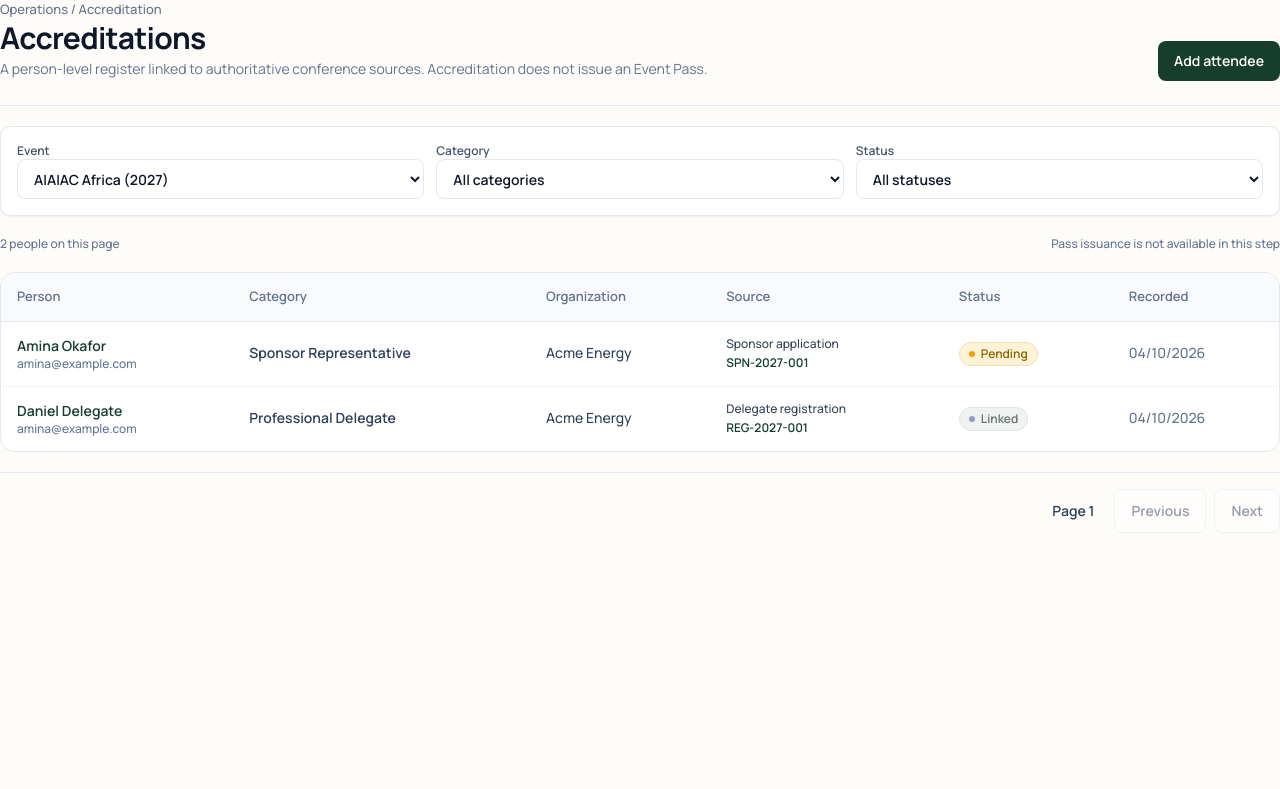
it: Accreditation UI › creates a pending representative using the organization's application reference
Click the button "Add attendee": coordinates (1219, 61) [1158,41,1279,81]
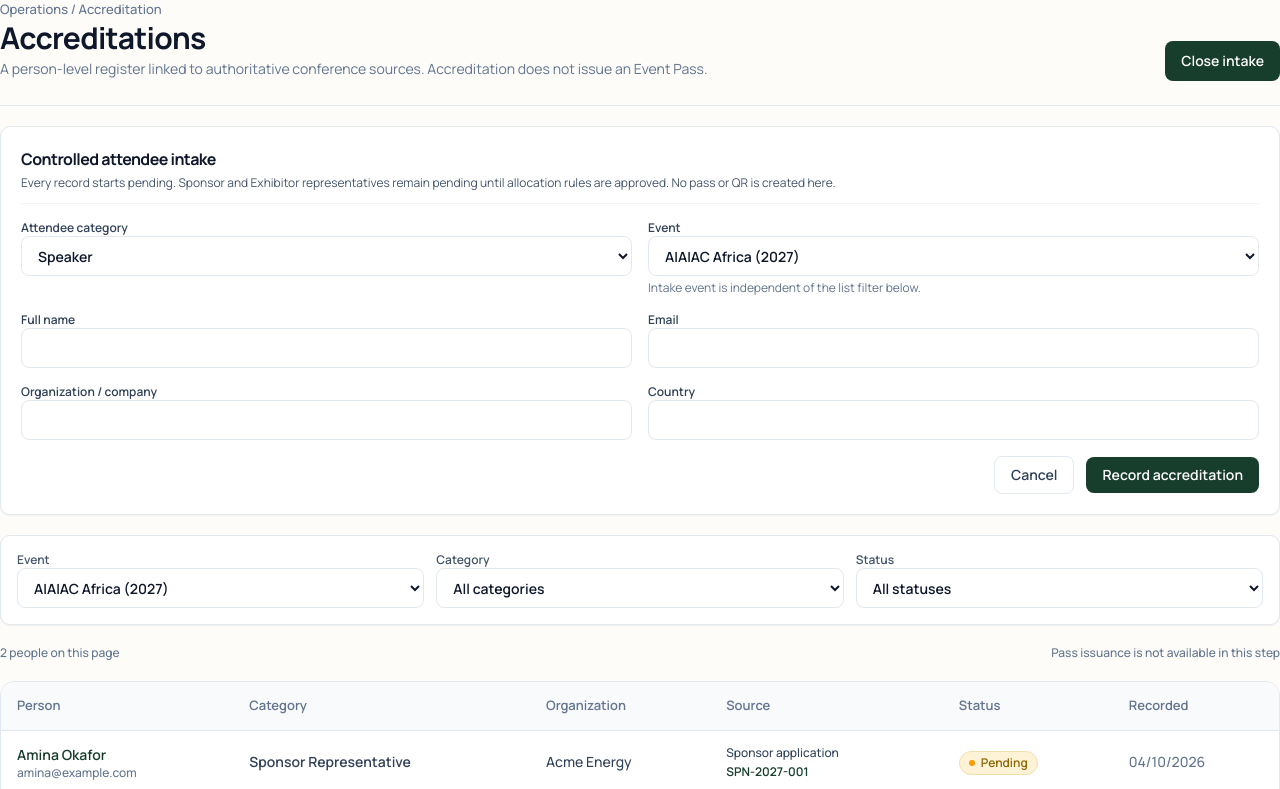
Select "Sponsor Representative" in the dropdown labelled "Attendee category": coordinates (326, 256) [21,236,632,276]
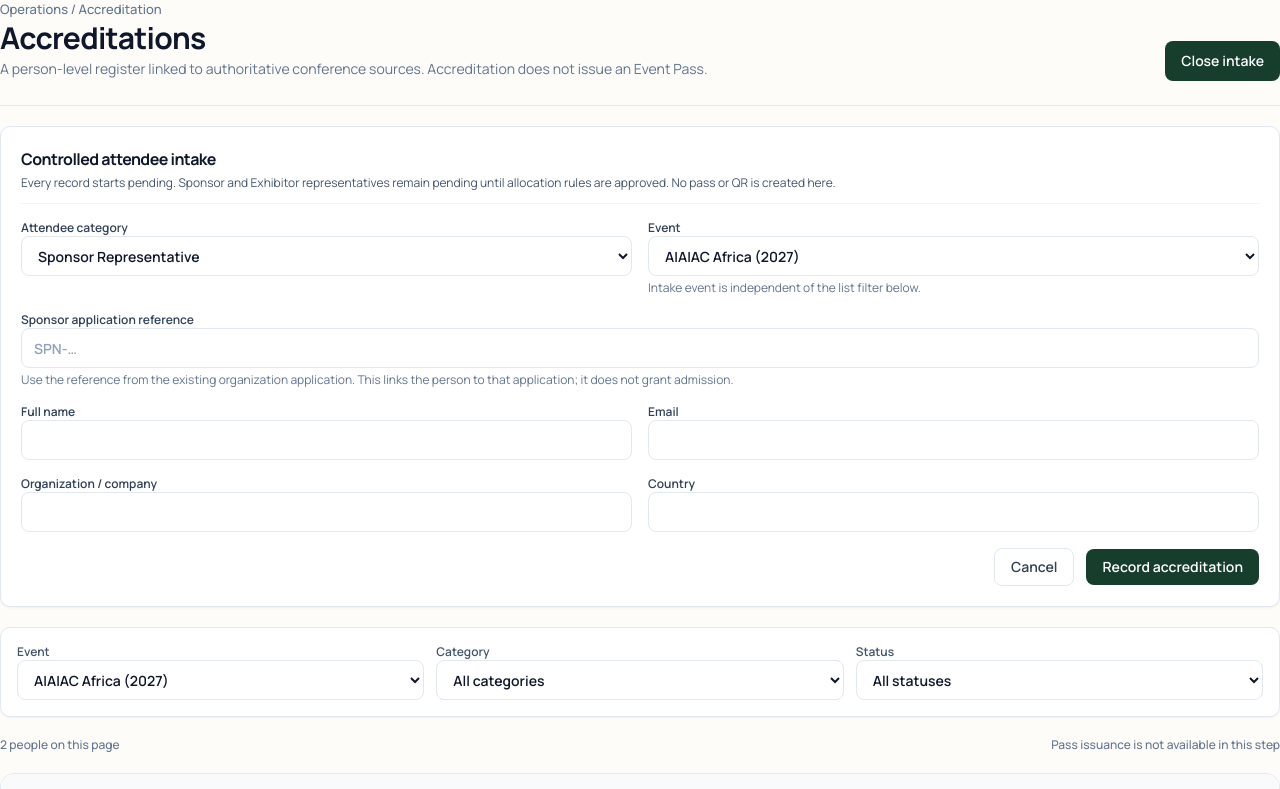
In the field labelled "Sponsor application reference": coordinates (640, 348) [21,328,1259,368], type "spn-2027-002"
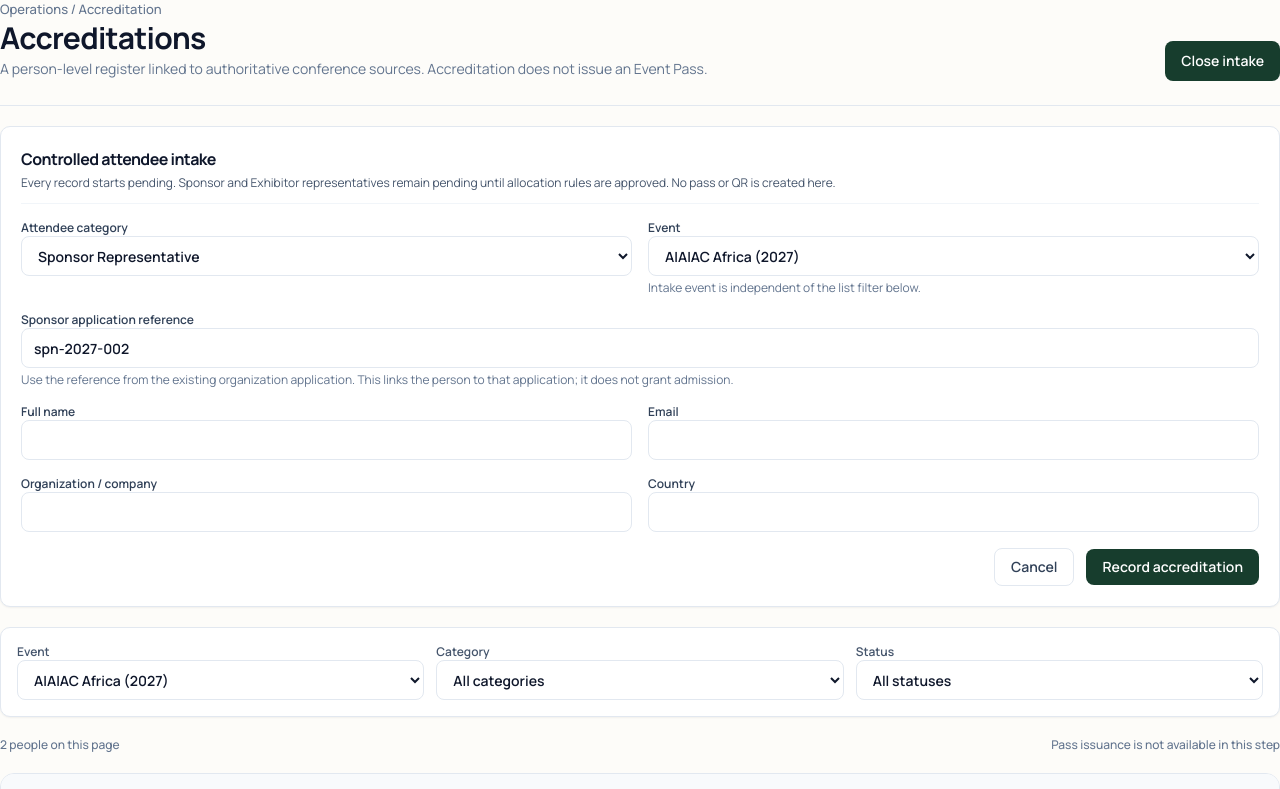
In the field labelled "Full name": coordinates (326, 440) [21,420,632,460], type "Kemi Representative"
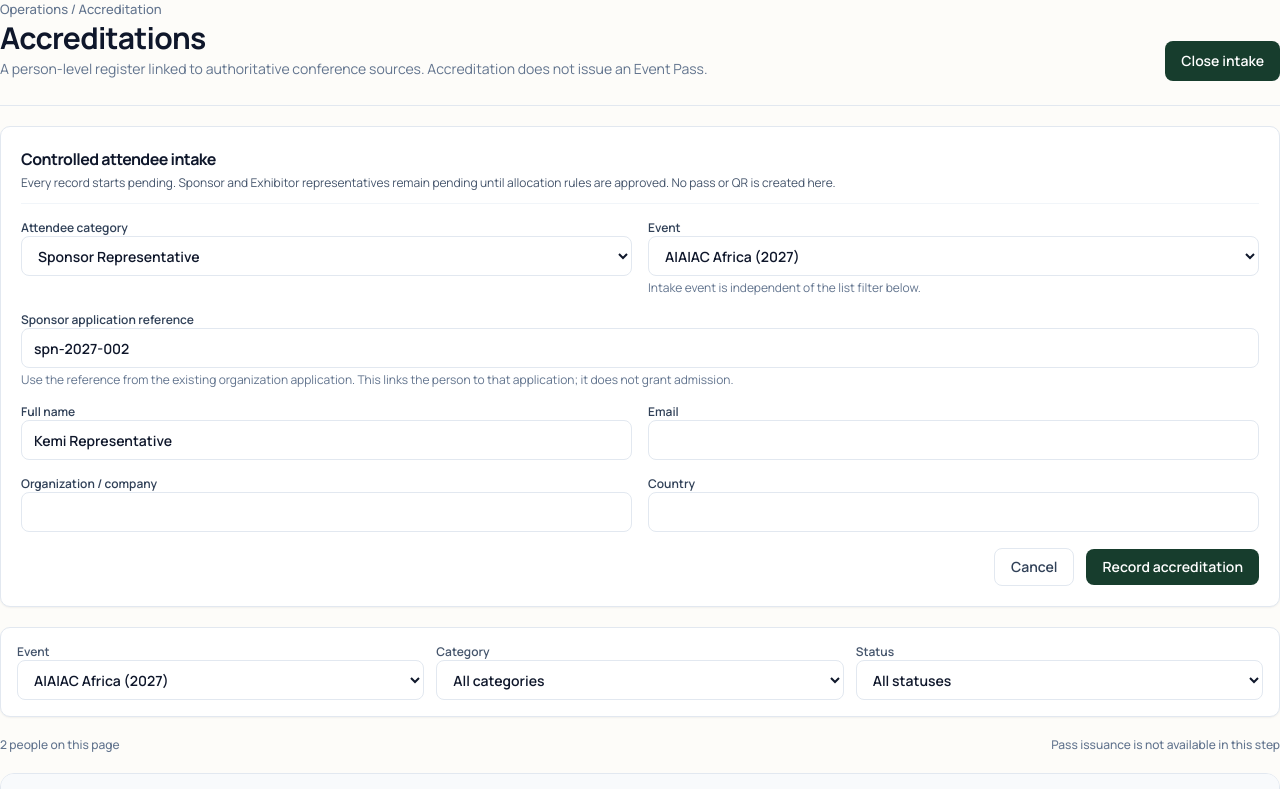
In the field labelled "Email": coordinates (954, 440) [648,420,1259,460], type "KEMI@example.com"
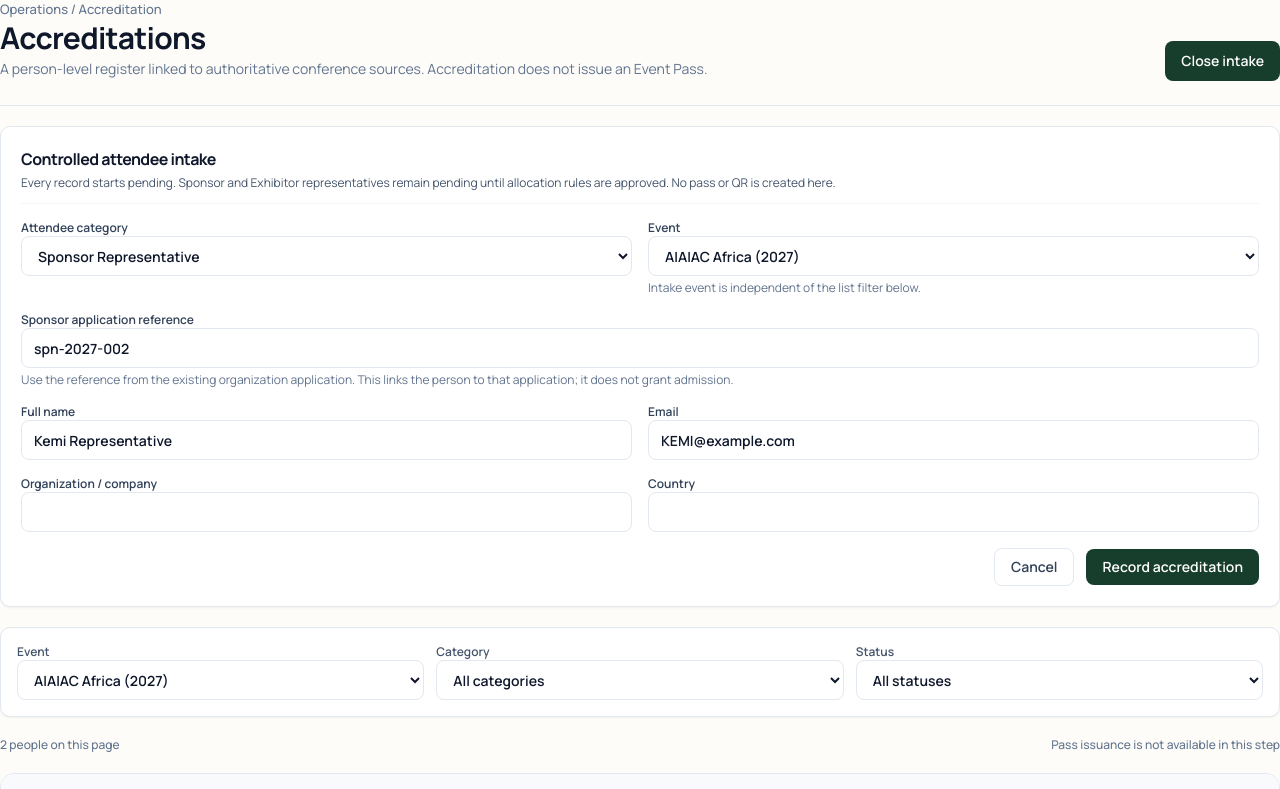
Click the button "Record accreditation": coordinates (1173, 567) [1086,549,1259,585]
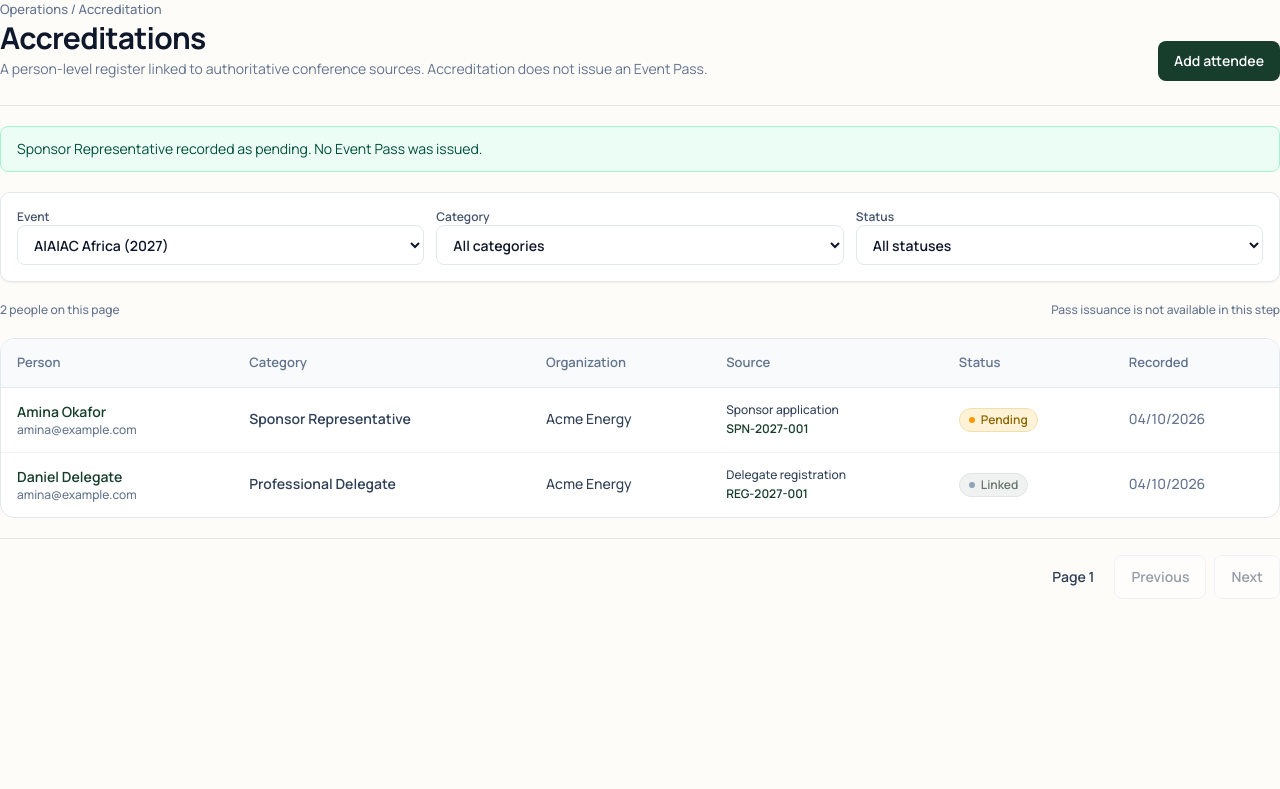
Result: the message "Sponsor Representative recorded as pending. No Event Pass was issued." is shown at [0,126,1279,172]
Result: the message shows "No Event Pass was issued" at [17,139,482,158]
